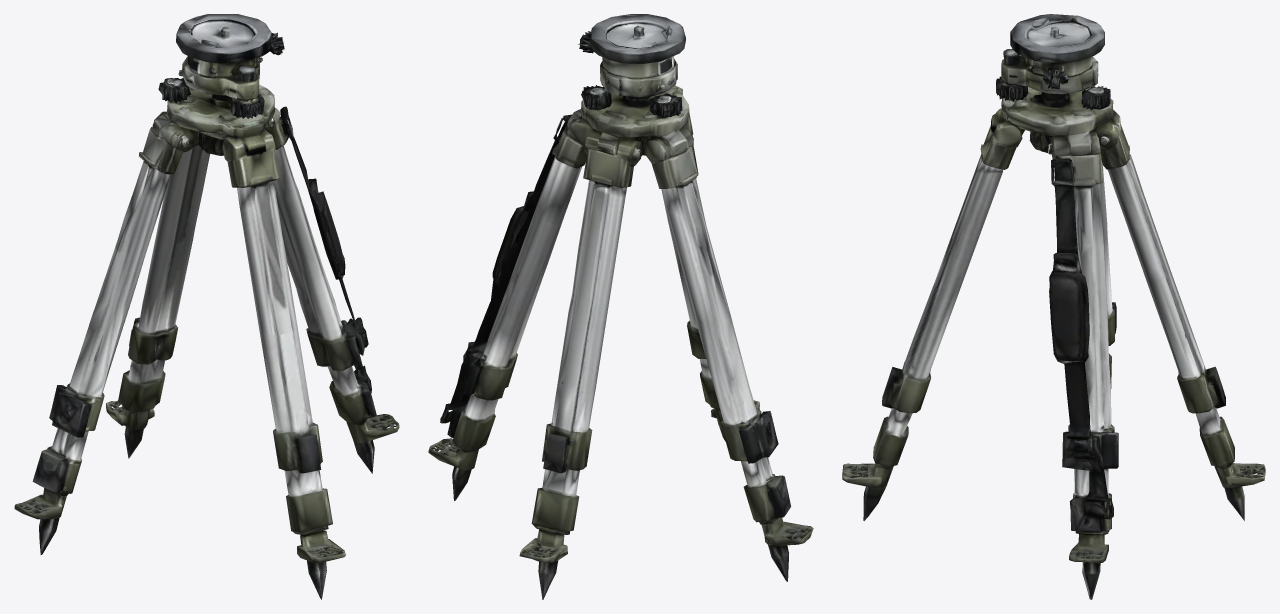
Rendered from tripe-re_lod0.glb.
3 renders of one model, left to right at view 1: azimuth 30°, elevation 25°; view 2: azimuth 150°, elevation 25°; view 3: azimuth 270°, elevation 25°, orthographic.
Visible parts, largest first — view 1: tripo_node_7c7c5d86-3162-41f4-9a5b-859f09594d2e; view 2: tripo_node_7c7c5d86-3162-41f4-9a5b-859f09594d2e; view 3: tripo_node_7c7c5d86-3162-41f4-9a5b-859f09594d2e.
Part boxes in pixels (box(x1,y1,x2,y2)): tripo_node_7c7c5d86-3162-41f4-9a5b-859f09594d2e: box(14, 14, 399, 599); tripo_node_7c7c5d86-3162-41f4-9a5b-859f09594d2e: box(428, 14, 813, 599); tripo_node_7c7c5d86-3162-41f4-9a5b-859f09594d2e: box(842, 14, 1265, 599).
Size of the model in its own units: 1.18 by 1.5 by 1.17.
1 material, 1 textured.
